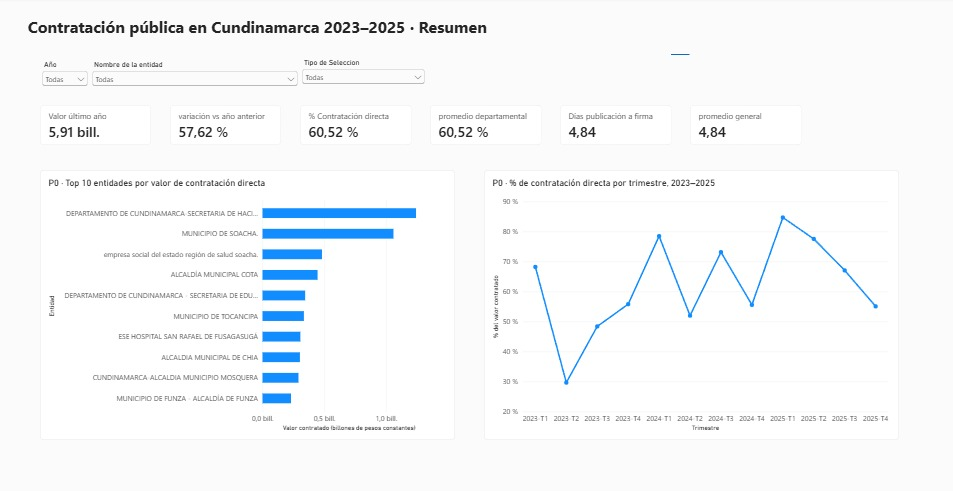

The page's visual inventory and layout, read from the dashboard file:
{"tool":"powerbi","page":{"name":"Resumen y P0","canvas":[1920,1080],"ordinal":0},"visuals":[{"type":"clusteredBarChart","title":"P0 · Top 10 entidades por valor de contratación directa","fields":{"Category":["dim_entidad.nombre_entidad"],"Y":["fact_contrato.Valor directa"]},"box":[90,375,830,540],"z":0},{"type":"lineChart","title":"P0 · % de contratación directa por trimestre, 2023–2025","fields":{"Category":["dim_tiempo.Periodo"],"Y":["fact_contrato.% Contratación directa"]},"box":[977.5,375,830,540],"z":1000},{"type":"slicer","fields":{"Values":["dim_tiempo.anio"]},"box":[90,155,100,66],"z":2000},{"type":"slicer","fields":{"Values":["dim_entidad.nombre_entidad"]},"box":[190,155,420,66],"z":3000},{"type":"slicer","fields":{"Values":["dim_modalidad.tipo_seleccion"]},"box":[610,152.5,254,66],"z":4000},{"type":"cardVisual","fields":{"Data":["fact_contrato.Valor último año"]},"box":[80,245,222.7,80],"z":5000},{"type":"cardVisual","fields":{"Data":["fact_contrato.Var % vs año anterior"]},"box":[350,245,222.9,80],"z":6000},{"type":"cardVisual","fields":{"Data":["fact_contrato.% Contratación directa"]},"box":[610,245,223,80],"z":7000},{"type":"cardVisual","fields":{"Data":["fact_contrato.% Directa promedio depto"]},"box":[864,245,223,80],"z":8000},{"type":"cardVisual","fields":{"Data":["fact_contrato.Días publicación a firma"]},"box":[1129,245,223,80],"z":9000},{"type":"cardVisual","fields":{"Data":["fact_contrato.Días promedio general"]},"box":[1389,245,223,80],"z":10000},{"type":"textbox","box":[50,65,1120,65],"z":11000}]}

Visuals, with their boxes on the page's 1920x1080 design canvas (x1, y1, x2, y2). These are canvas units, not pixel positions in the 953x491 screenshot, which may show the page scaled, cropped or inside an application window:
"P0 · Top 10 entidades por valor de contratación directa" clusteredBarChart: l=90, t=375, r=920, b=915
"P0 · % de contratación directa por trimestre, 2023–2025" lineChart: l=978, t=375, r=1808, b=915
slicer - dim_tiempo.anio: l=90, t=155, r=190, b=221
slicer - dim_entidad.nombre_entidad: l=190, t=155, r=610, b=221
slicer - dim_modalidad.tipo_seleccion: l=610, t=152, r=864, b=218
cardVisual - fact_contrato.Valor último año: l=80, t=245, r=303, b=325
cardVisual - fact_contrato.Var % vs año anterior: l=350, t=245, r=573, b=325
cardVisual - fact_contrato.% Contratación directa: l=610, t=245, r=833, b=325
cardVisual - fact_contrato.% Directa promedio depto: l=864, t=245, r=1087, b=325
cardVisual - fact_contrato.Días publicación a firma: l=1129, t=245, r=1352, b=325
cardVisual - fact_contrato.Días promedio general: l=1389, t=245, r=1612, b=325
textbox: l=50, t=65, r=1170, b=130
